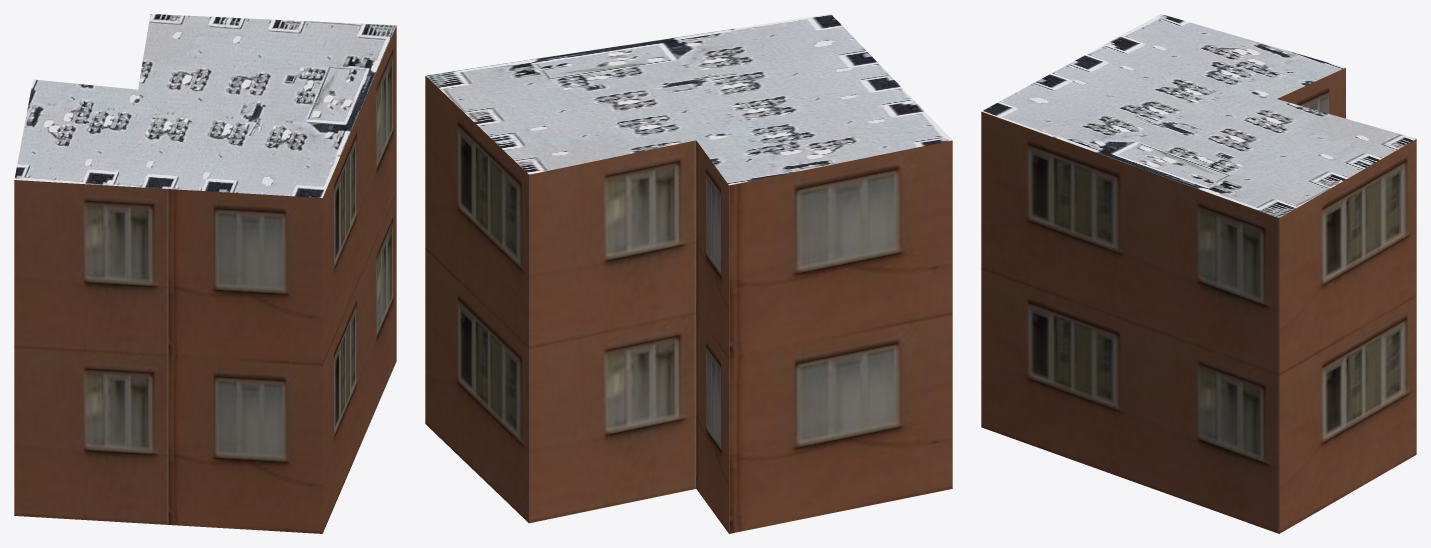
Rendered from ResTex__145.fbx.
The picture shows the model from 3 angles, left to right: view 1: azimuth 30°, elevation 25°; view 2: azimuth 150°, elevation 25°; view 3: azimuth 270°, elevation 25°; orthographic projection. The views are drawn at different scales.
Parts seen in each view (by area): view 1: CityEngineMaterial_20_m, CityEngineMaterial_4_m; view 2: CityEngineMaterial_20_m, CityEngineMaterial_4_m; view 3: CityEngineMaterial_20_m, CityEngineMaterial_4_m.
Part boxes in pixels (box(x1,y1,x2,y2)): CityEngineMaterial_20_m: box(14, 26, 396, 533); CityEngineMaterial_4_m: box(14, 14, 396, 197); CityEngineMaterial_20_m: box(425, 76, 952, 533); CityEngineMaterial_4_m: box(425, 14, 952, 185); CityEngineMaterial_20_m: box(981, 68, 1416, 533); CityEngineMaterial_4_m: box(981, 14, 1416, 217).
Size of the model in its own units: 8.32 by 6 by 7.5.
Materials: 2 (2 with a texture image).
